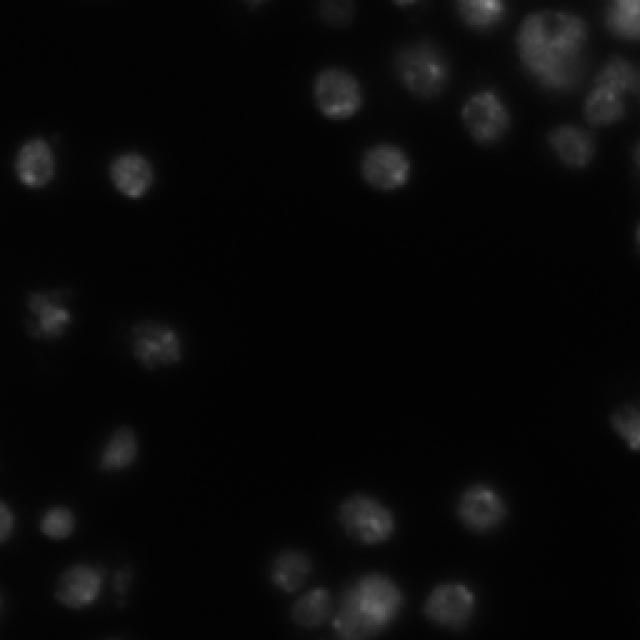cell: (524, 12, 584, 76), (392, 45, 446, 90), (348, 492, 395, 540), (321, 73, 363, 117), (461, 491, 508, 530), (426, 586, 473, 625), (354, 580, 397, 621), (57, 561, 97, 604), (16, 143, 54, 187), (465, 98, 512, 130), (370, 147, 407, 186), (117, 159, 152, 196), (107, 433, 138, 468), (39, 291, 66, 330), (616, 0, 640, 38), (143, 333, 175, 360), (45, 505, 68, 540), (470, 1, 498, 24), (0, 505, 12, 534)
